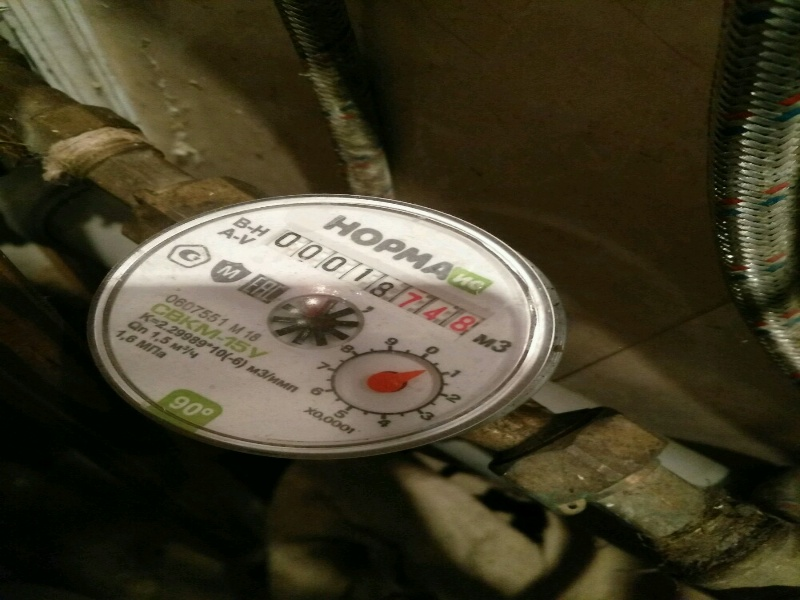meter: (274, 221, 477, 333)
